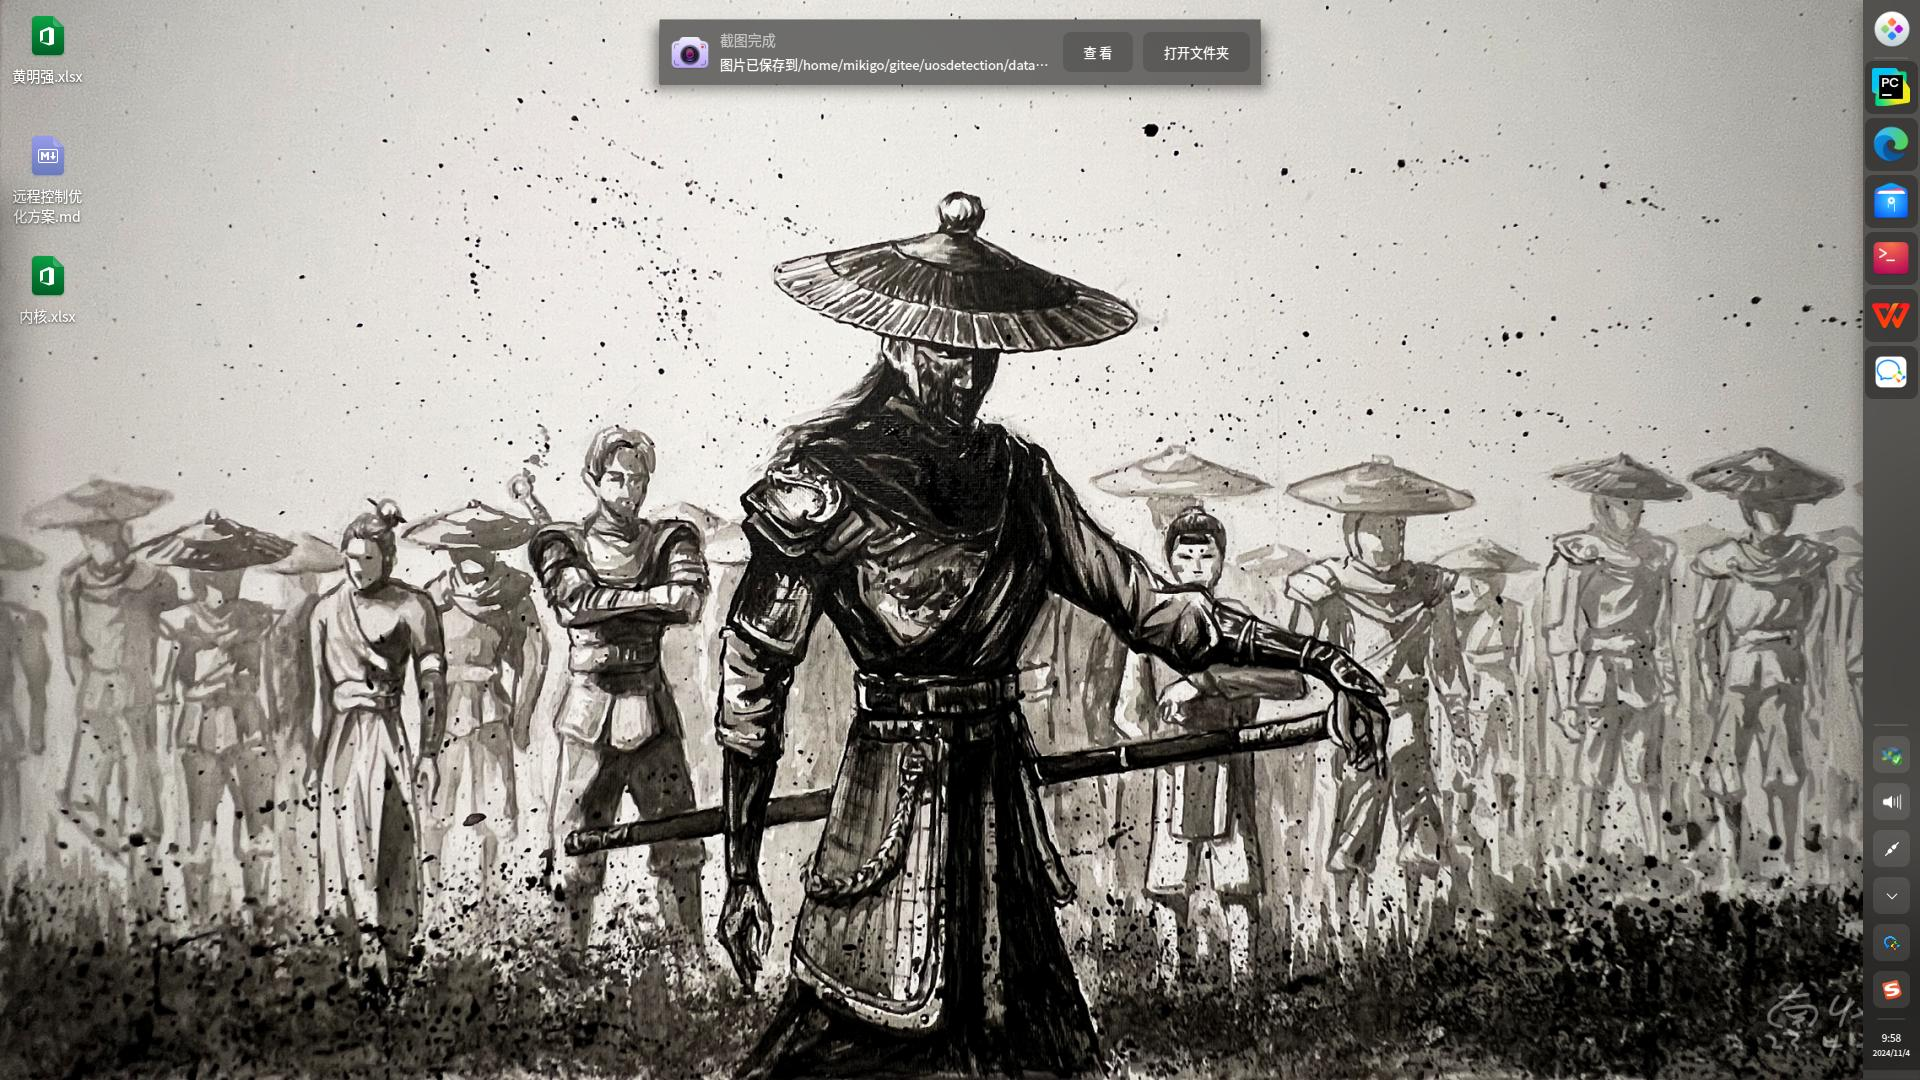dde_file_manager_icon: (1873, 182, 1911, 220)
dde_launcher_icon: (1873, 9, 1913, 50)
